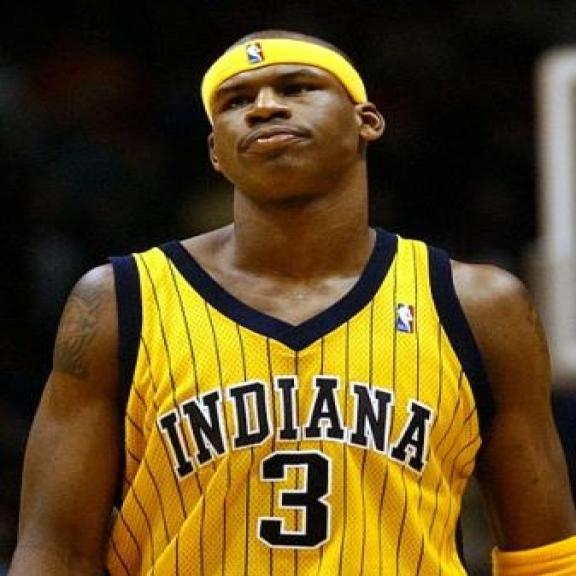face: (208, 62, 387, 188)
